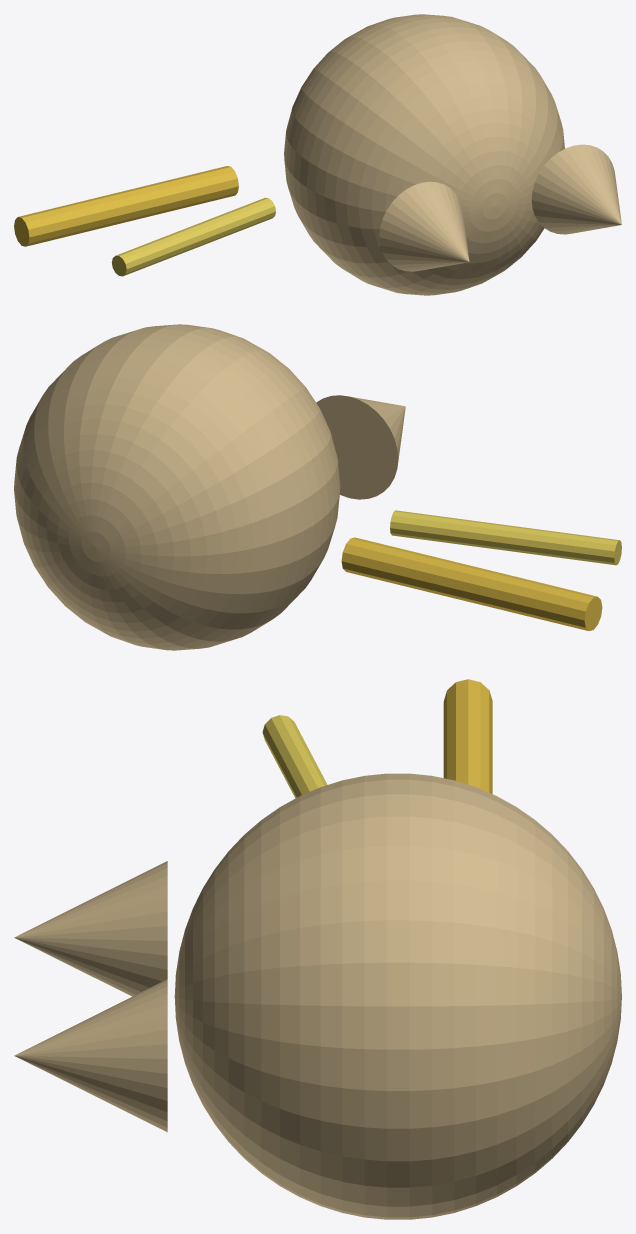
The model's file is powerup_doge_dash.glb.
The picture shows the model from 3 angles, top to bottom: view 1: azimuth 30°, elevation 25°; view 2: azimuth 150°, elevation 25°; view 3: azimuth 270°, elevation 25°; orthographic projection. The views are drawn at different scales.
Parts seen in each view (by area): view 1: doge_head, trail1, ear_r, ear_l, trail2; view 2: doge_head, trail1, ear_l, trail2; view 3: doge_head, ear_r, ear_l, trail1, trail2.
Boxes of the visible parts, left/top/right/bottom form: doge_head: left=284, top=14, right=564, bottom=295; trail1: left=14, top=166, right=238, bottom=246; ear_r: left=531, top=144, right=621, bottom=234; ear_l: left=379, top=181, right=469, bottom=271; trail2: left=111, top=197, right=275, bottom=276; doge_head: left=14, top=324, right=340, bottom=650; trail1: left=341, top=537, right=602, bottom=630; ear_l: left=316, top=395, right=405, bottom=499; trail2: left=390, top=510, right=621, bottom=565; doge_head: left=174, top=773, right=621, bottom=1219; ear_r: left=14, top=979, right=167, bottom=1132; ear_l: left=14, top=861, right=167, bottom=996; trail1: left=443, top=679, right=492, bottom=793; trail2: left=262, top=715, right=327, bottom=798.
Size of the model in its own units: 1.32 by 0.6392 by 0.87.
